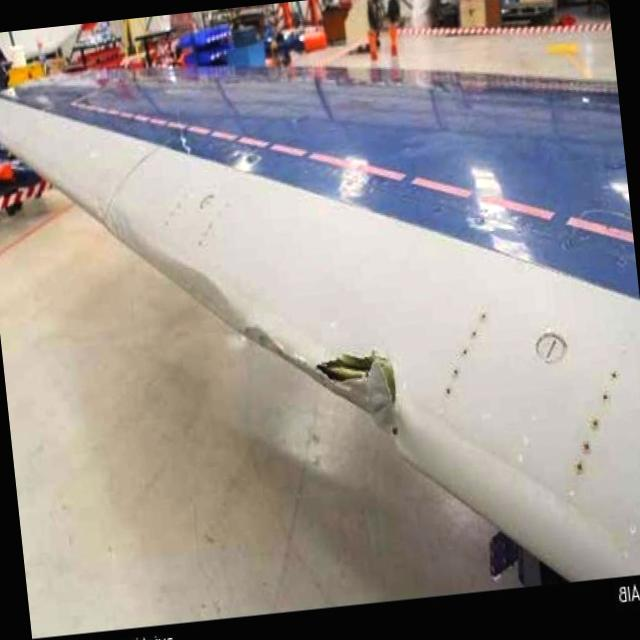crack: (302, 345, 418, 457)
dent: (158, 252, 249, 345)
